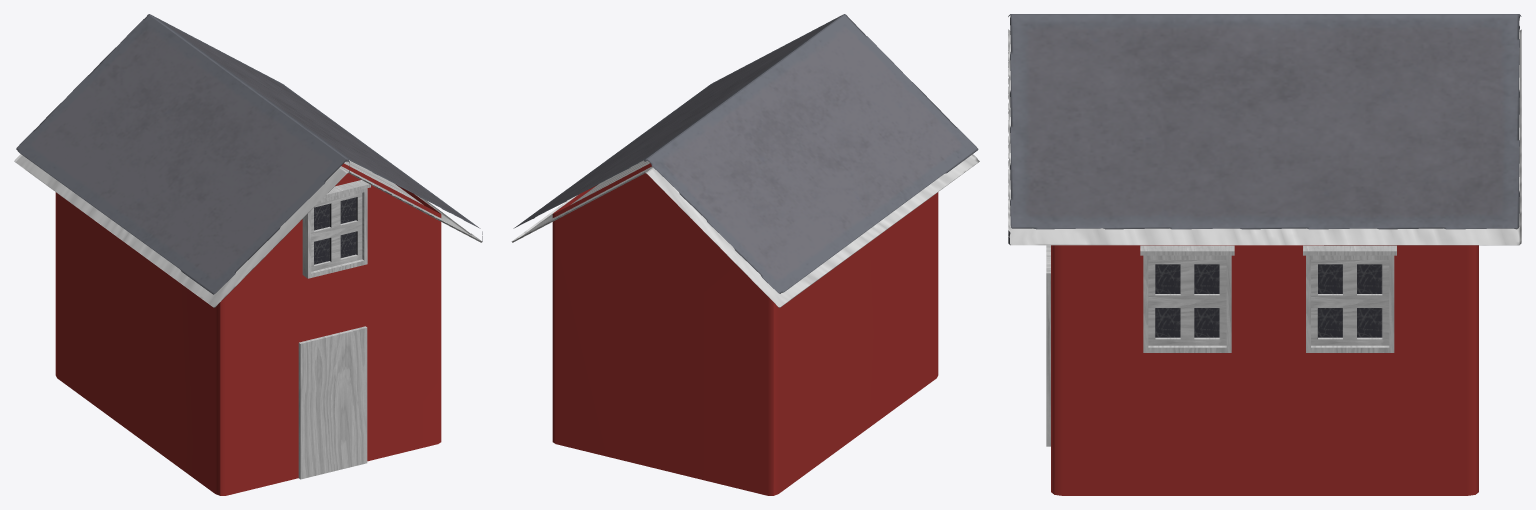
Rendered from House_4.fbx.
The picture shows the model from 3 angles, left to right: view 1: azimuth 30°, elevation 25°; view 2: azimuth 150°, elevation 25°; view 3: azimuth 270°, elevation 25°; orthographic projection. The views are drawn at different scales.
Parts seen in each view (by area): view 1: House_4; view 2: House_4; view 3: House_4.
Part boxes in pixels (x1,y1,x2,y2): House_4: (14,14,482,495); House_4: (511,14,979,495); House_4: (1008,14,1521,495).
Size of the model in its own units: 4.02 by 4.59 by 5.19.
